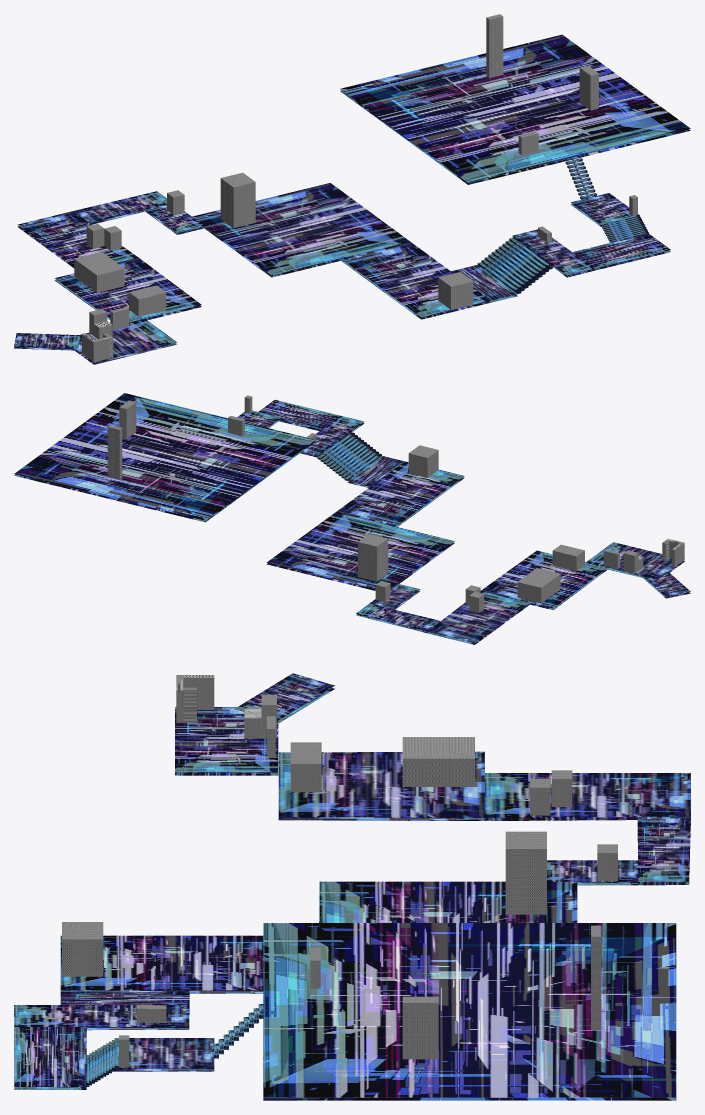
Rendered from map.obj.
3 views of the same model, one above another, from view 1: azimuth 30°, elevation 25°; view 2: azimuth 150°, elevation 25°; view 3: azimuth 270°, elevation 25° (orthographic). The views are drawn at different scales.
Visible parts, largest first — view 1: Plane009, obj1, Plane008; view 2: Plane009, obj1, Plane008; view 3: Plane009, obj1, Plane008.
Boxes of the visible parts, bbox=[...] form: Plane009: bbox=[14, 34, 690, 362]; obj1: bbox=[74, 14, 637, 362]; Plane008: bbox=[14, 90, 690, 364]; Plane009: bbox=[14, 393, 690, 642]; obj1: bbox=[107, 395, 684, 612]; Plane008: bbox=[14, 419, 690, 644]; Plane009: bbox=[14, 673, 690, 1097]; obj1: bbox=[62, 675, 617, 1067]; Plane008: bbox=[14, 688, 690, 1100].
Size of the model in its own units: 120 by 20.94 by 65.58.
